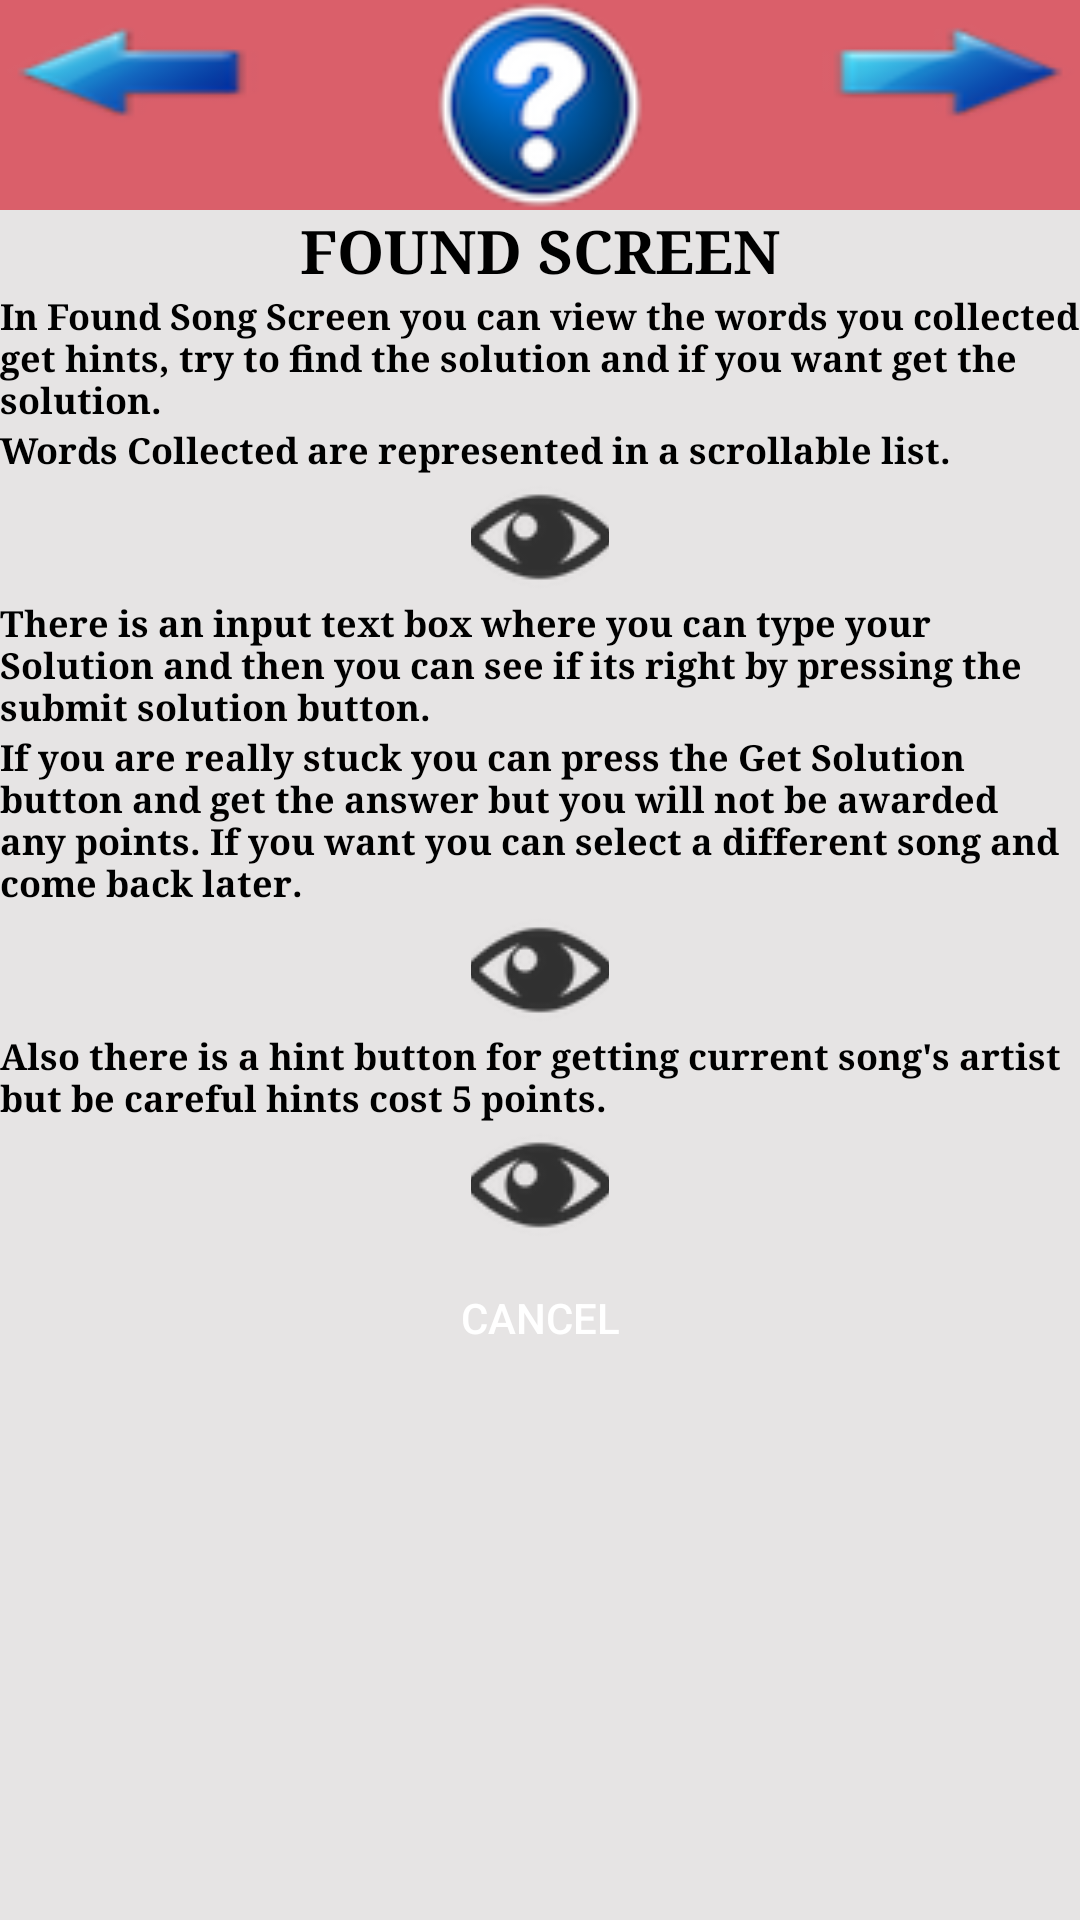

Screen size 1080px x 1920px. Icon name, then its box in pixels as [left=x1, top=y1, right=x2, bottom=y2]:
eye: [left=471, top=494, right=609, bottom=580], [left=471, top=927, right=609, bottom=1013], [left=471, top=1142, right=609, bottom=1228]
